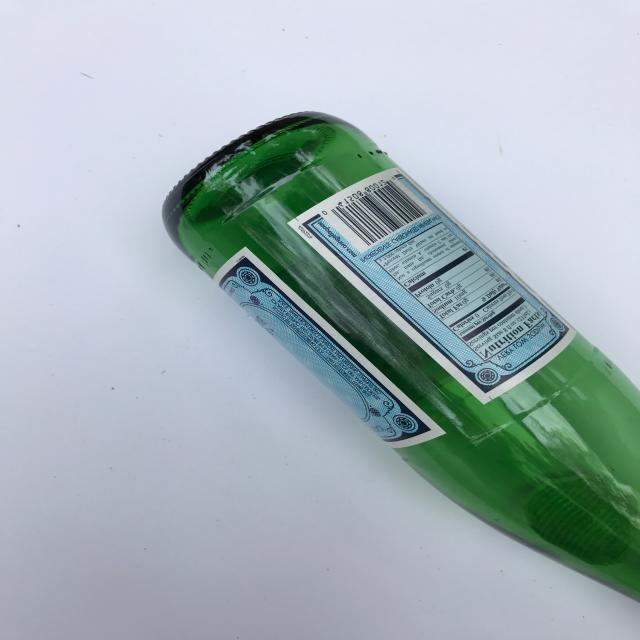glass: (159, 106, 632, 616)
